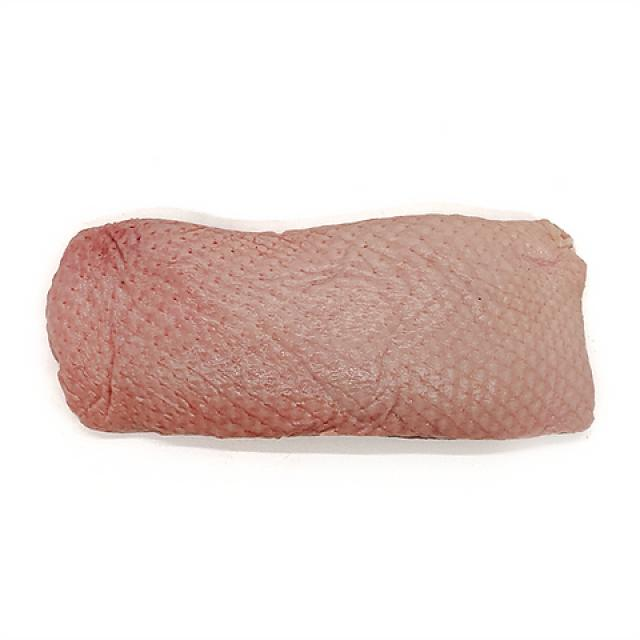duck: (48, 218, 594, 438)
